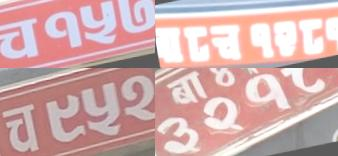1: (39, 6, 85, 60), (241, 70, 289, 119), (247, 19, 276, 63), (321, 11, 338, 56), (229, 68, 256, 78)
2: (115, 71, 155, 131), (199, 93, 241, 136), (270, 17, 302, 60)
3: (155, 112, 200, 156)
4: (207, 68, 235, 88)
5: (78, 80, 126, 146), (76, 0, 121, 53)
7: (112, 0, 155, 41)
8: (180, 21, 214, 66), (296, 14, 328, 61), (277, 68, 323, 98)
9: (39, 91, 89, 153)
ba: (163, 69, 209, 109), (155, 21, 185, 68)
cha: (0, 13, 44, 68), (0, 102, 44, 156), (207, 17, 245, 66)
